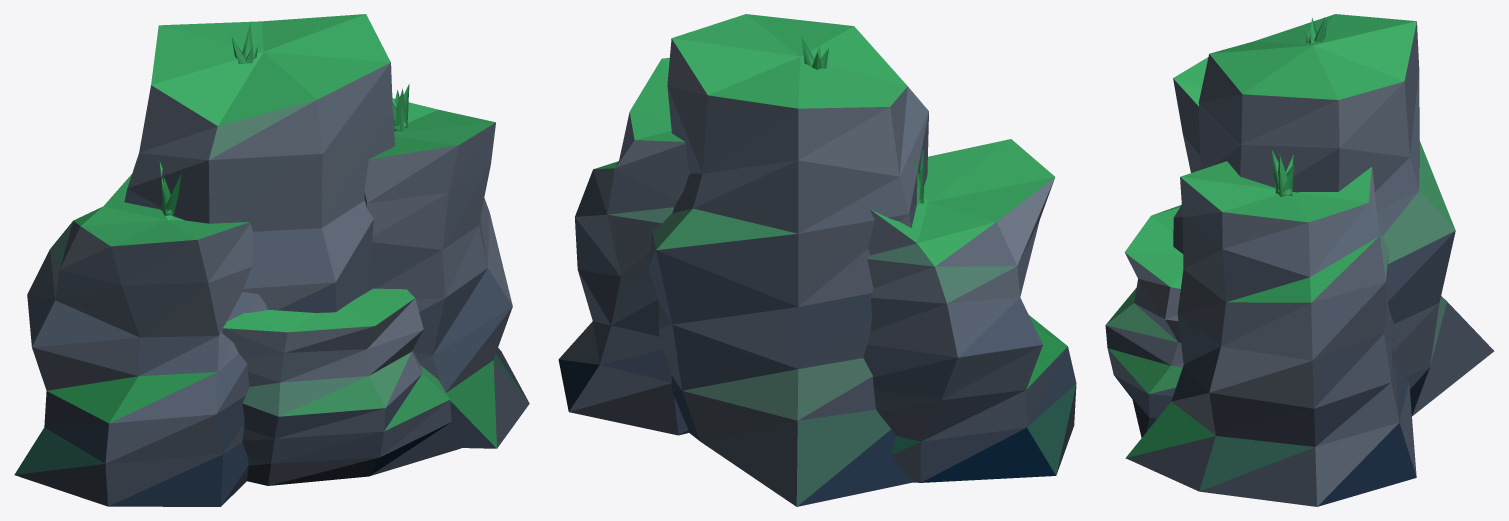
File: batu_cliff_granite_696281.glb
3 renders of one model, left to right at view 1: azimuth 30°, elevation 25°; view 2: azimuth 150°, elevation 25°; view 3: azimuth 270°, elevation 25°, orthographic. The views are drawn at different scales.
Visible parts, largest first — view 1: Tebing_Sungai_Curam; view 2: Tebing_Sungai_Curam; view 3: Tebing_Sungai_Curam.
Boxes of the visible parts, box(x1,y1,x2,y2) form: Tebing_Sungai_Curam: box(14, 14, 529, 506); Tebing_Sungai_Curam: box(558, 14, 1076, 506); Tebing_Sungai_Curam: box(1105, 14, 1494, 506).
Size of the model in its own units: 7.63 by 5.84 by 5.39.
